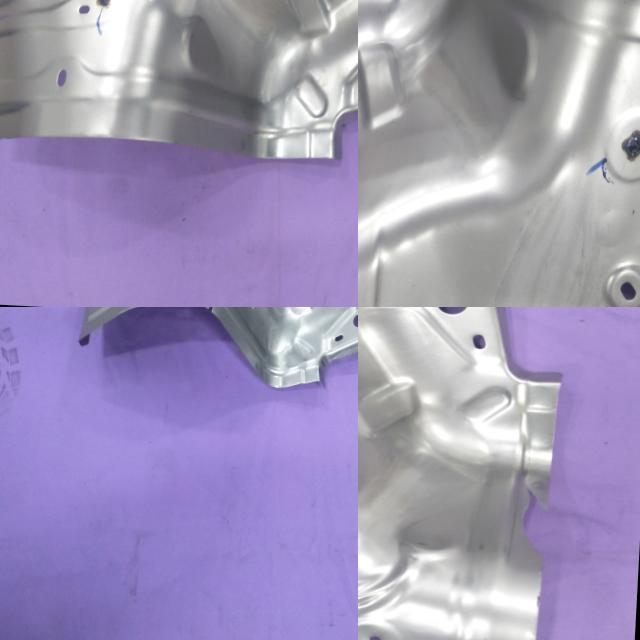Defect: (502, 464, 574, 582)
Healthy: (358, 0, 640, 307), (0, 0, 358, 176)
